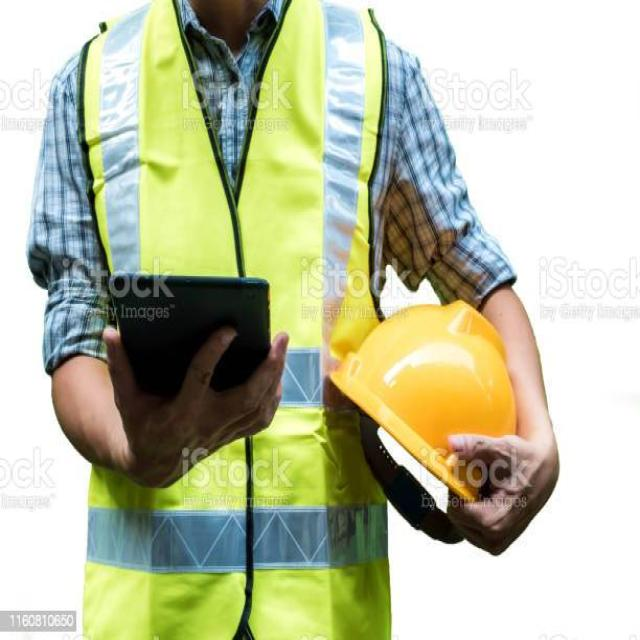vest: (58, 0, 390, 640)
